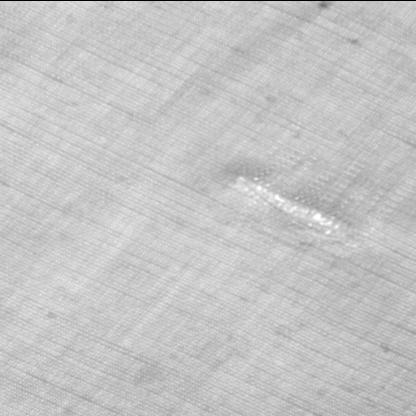hole: (225, 168, 351, 244)
